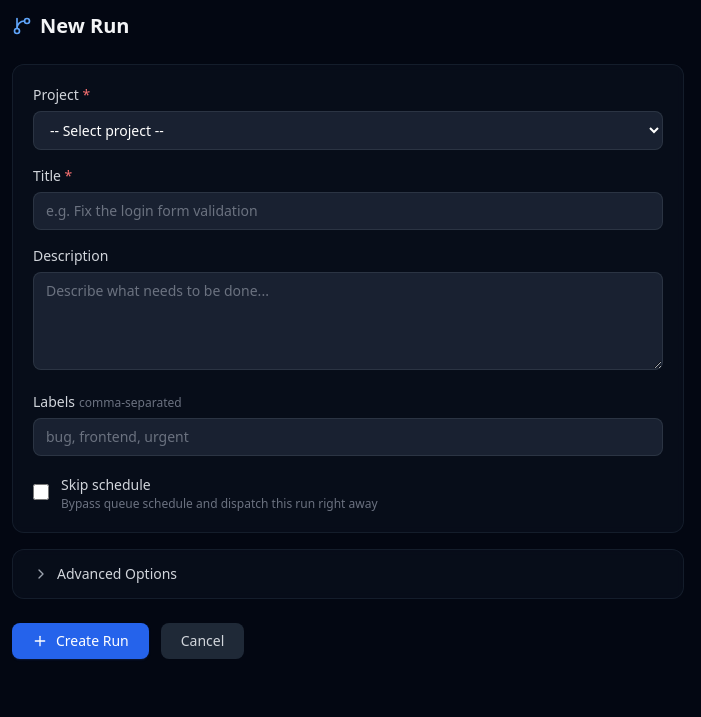
Test case: NewRun › shows validation errors when submitting empty form
What coordinates should you click on to do the following:
click the button "Create Run"
I would click on:
 (80, 641)
Its box is left=12, top=623, right=149, bottom=659.
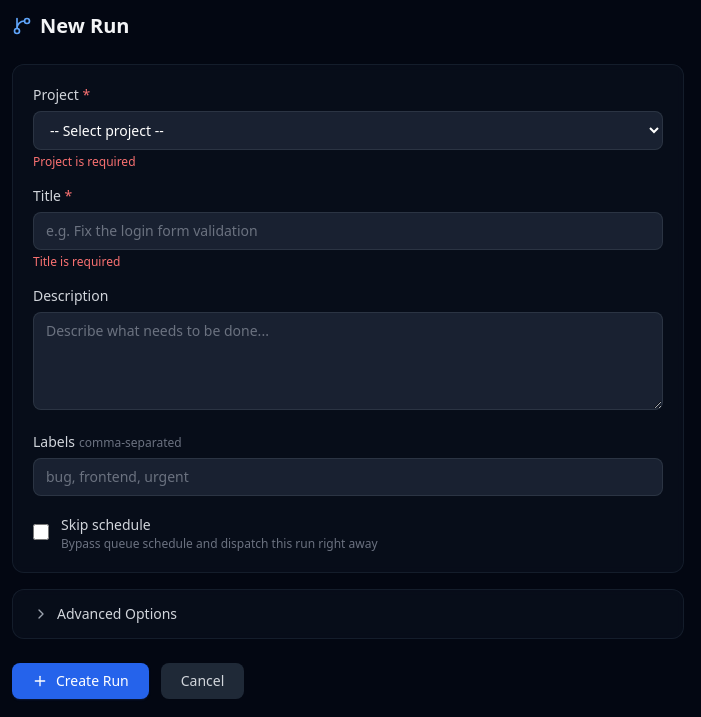
Check: the text "Project is required" is shown, box left=33, top=153, right=136, bottom=170
Check: the text "Title is required" is shown, box left=33, top=253, right=120, bottom=270
